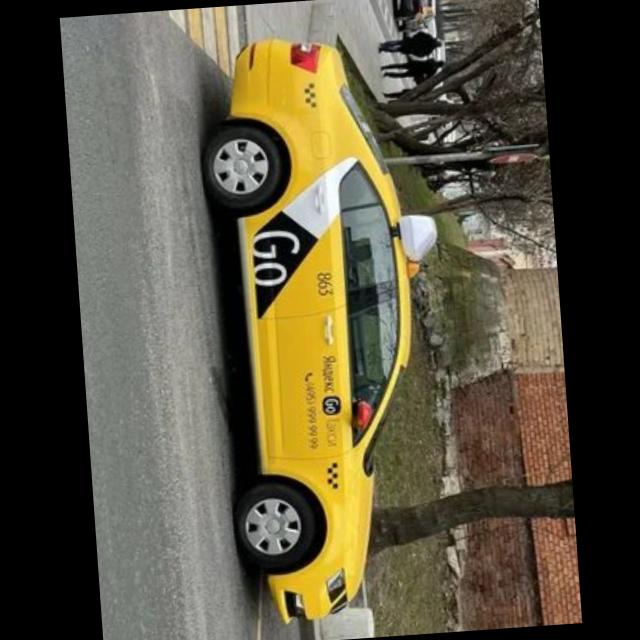taxi: (195, 28, 466, 628)
